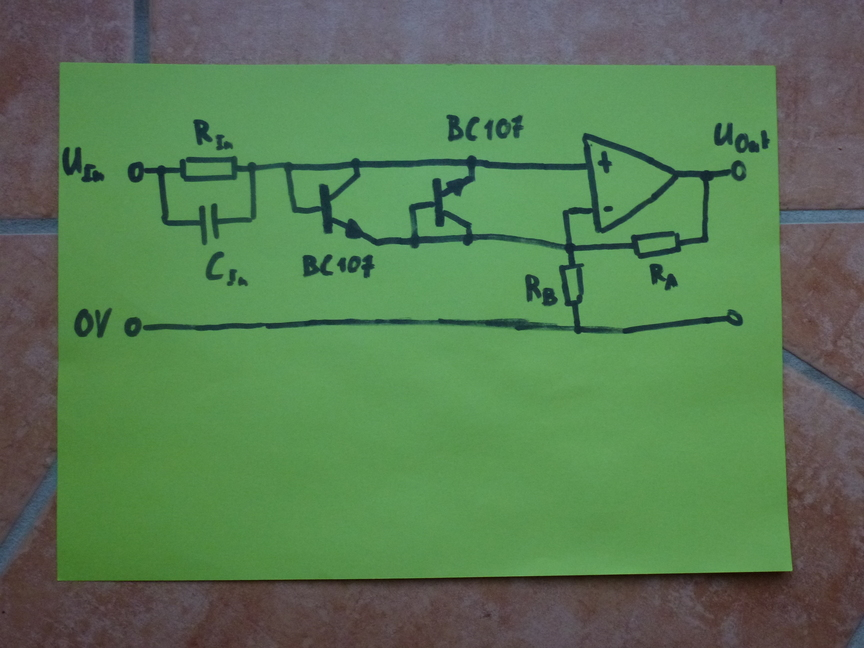capacitor.unpolarized: (195, 201, 223, 248)
junction: (408, 234, 422, 250), (699, 168, 714, 182), (159, 215, 173, 229), (563, 241, 577, 255), (465, 154, 478, 169), (245, 161, 259, 174), (282, 160, 295, 174), (349, 156, 362, 170), (462, 232, 474, 247), (571, 323, 584, 336), (155, 163, 167, 177), (560, 206, 573, 218), (407, 202, 419, 213), (290, 205, 301, 216), (699, 234, 710, 245), (248, 214, 258, 225)
operational_amplifier: (580, 131, 680, 235)
resistor: (178, 155, 240, 183), (630, 229, 683, 260), (558, 262, 586, 308)
terminal: (122, 314, 145, 339), (124, 159, 146, 184), (728, 158, 749, 182), (725, 307, 745, 329)
text: (444, 112, 525, 143), (712, 120, 771, 155), (301, 253, 377, 280), (60, 145, 108, 184), (204, 249, 250, 288), (191, 117, 234, 152), (72, 306, 114, 340), (523, 272, 559, 308), (648, 262, 679, 292)
transistor: (318, 173, 379, 247), (431, 175, 476, 229)
